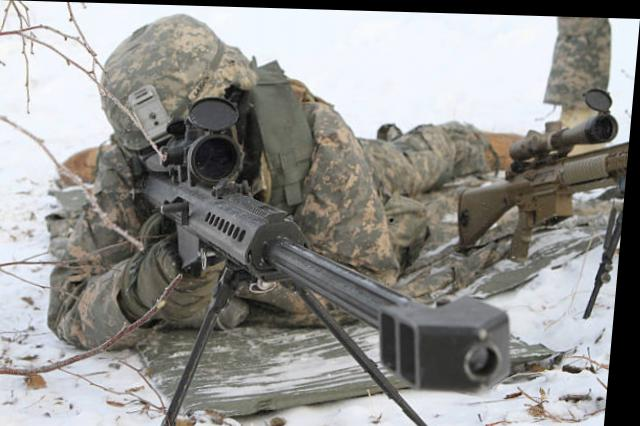other: (30, 11, 538, 351)
